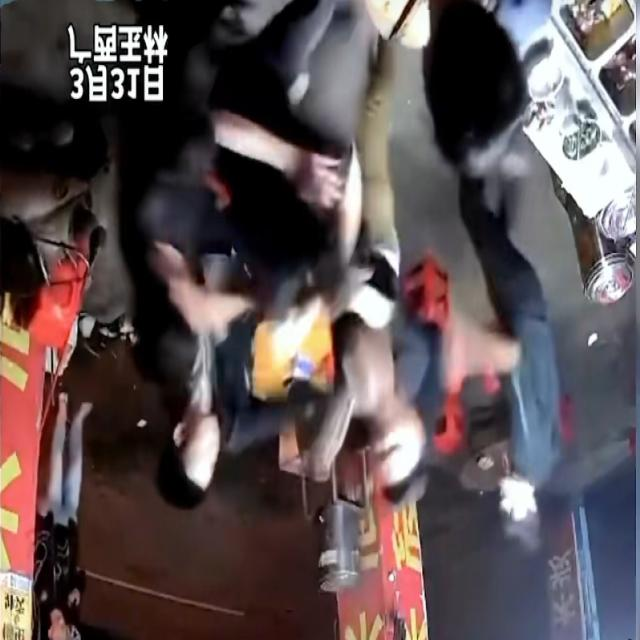fight: (139, 261, 437, 521)
nofight: (480, 137, 560, 562)
